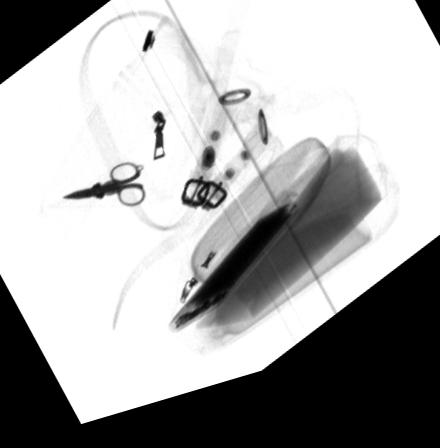Powerbank: (167, 215, 301, 345)
Scissors: (59, 168, 146, 216)
